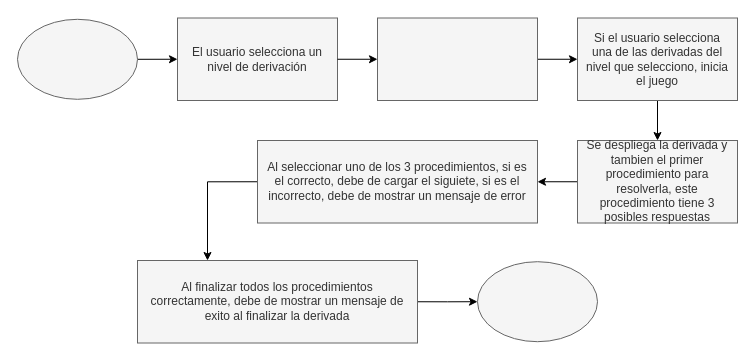
Image size: 755x360. Some labels were removed from this diagram. The shapes that lost their labels are listed below. From the top down, each one's centre as x and y in pixels, then its label:
At point (77, 58): "Inicio".
At point (457, 58): "Se depliega el listado de derivadas según el nivel seleccionado".
At point (537, 301): "Fin".
